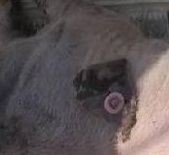text: (99, 85, 136, 119)
